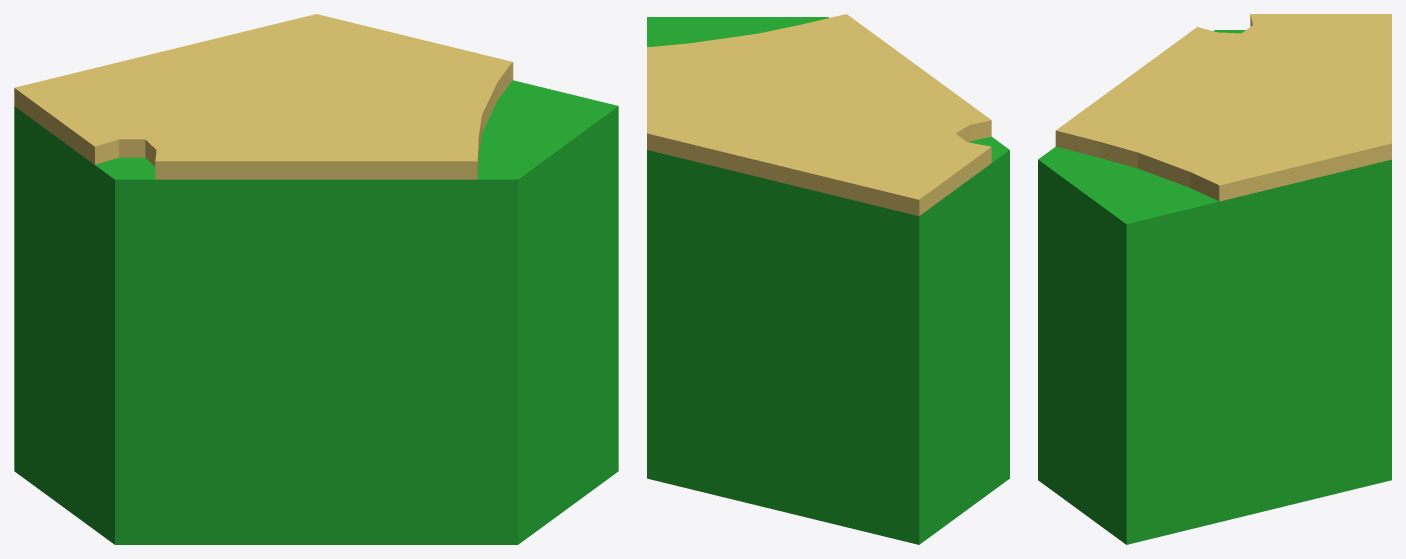
File: module-corner_land_path_left_003.glb
3 views of the same model, side by side, from view 1: azimuth 30°, elevation 25°; view 2: azimuth 150°, elevation 25°; view 3: azimuth 270°, elevation 25° (orthographic). The views are drawn at different scales.
Visible parts, largest first — view 1: module-corner_land_path_left_003; view 2: module-corner_land_path_left_003; view 3: module-corner_land_path_left_003.
Part boxes in pixels (<box>): module-corner_land_path_left_003: <box>14,14,618,544</box>; module-corner_land_path_left_003: <box>647,14,1009,544</box>; module-corner_land_path_left_003: <box>1038,14,1391,544</box>.
Bounding box in the file's own units: 0.6495 × 0.525 × 0.5.
